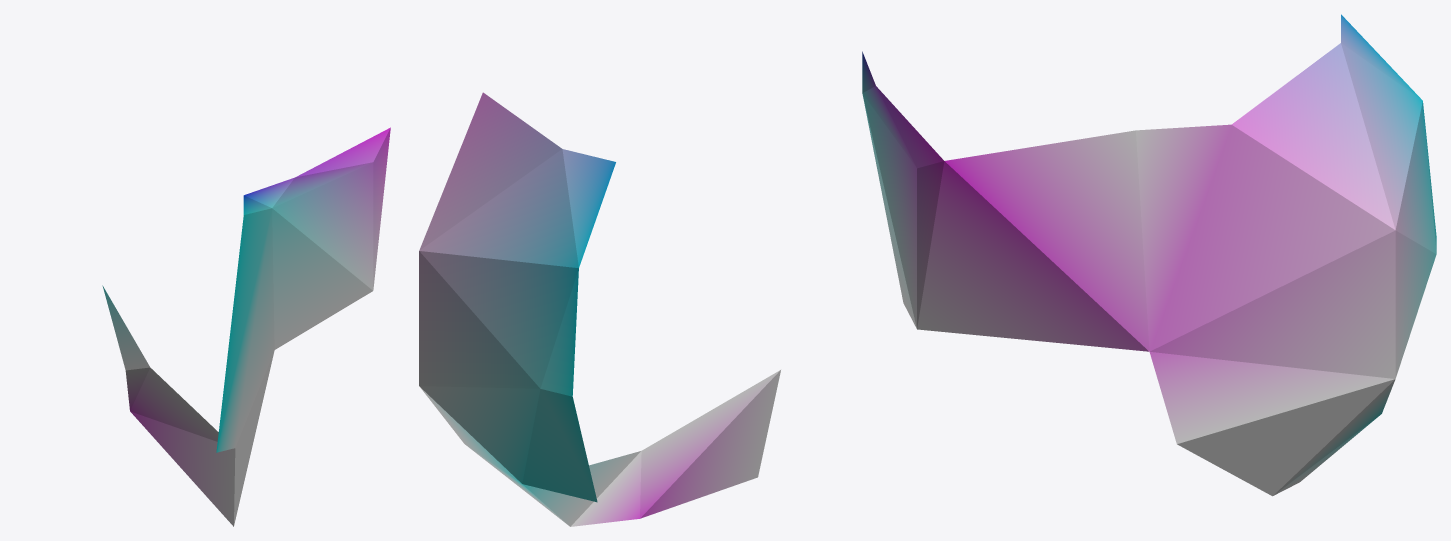
The picture shows the model from 3 angles, left to right: view 1: azimuth 30°, elevation 25°; view 2: azimuth 150°, elevation 25°; view 3: azimuth 270°, elevation 25°; orthographic projection. The views are drawn at different scales.
Visible parts, largest first — view 1: model_115E; view 2: model_115E; view 3: model_115E.
Boxes of the visible parts, left/top/right/bottom form: model_115E: left=102, top=127, right=390, bottom=526; model_115E: left=419, top=92, right=780, bottom=526; model_115E: left=862, top=14, right=1436, bottom=496.
Size of the model in its own units: 23 by 40 by 42.
